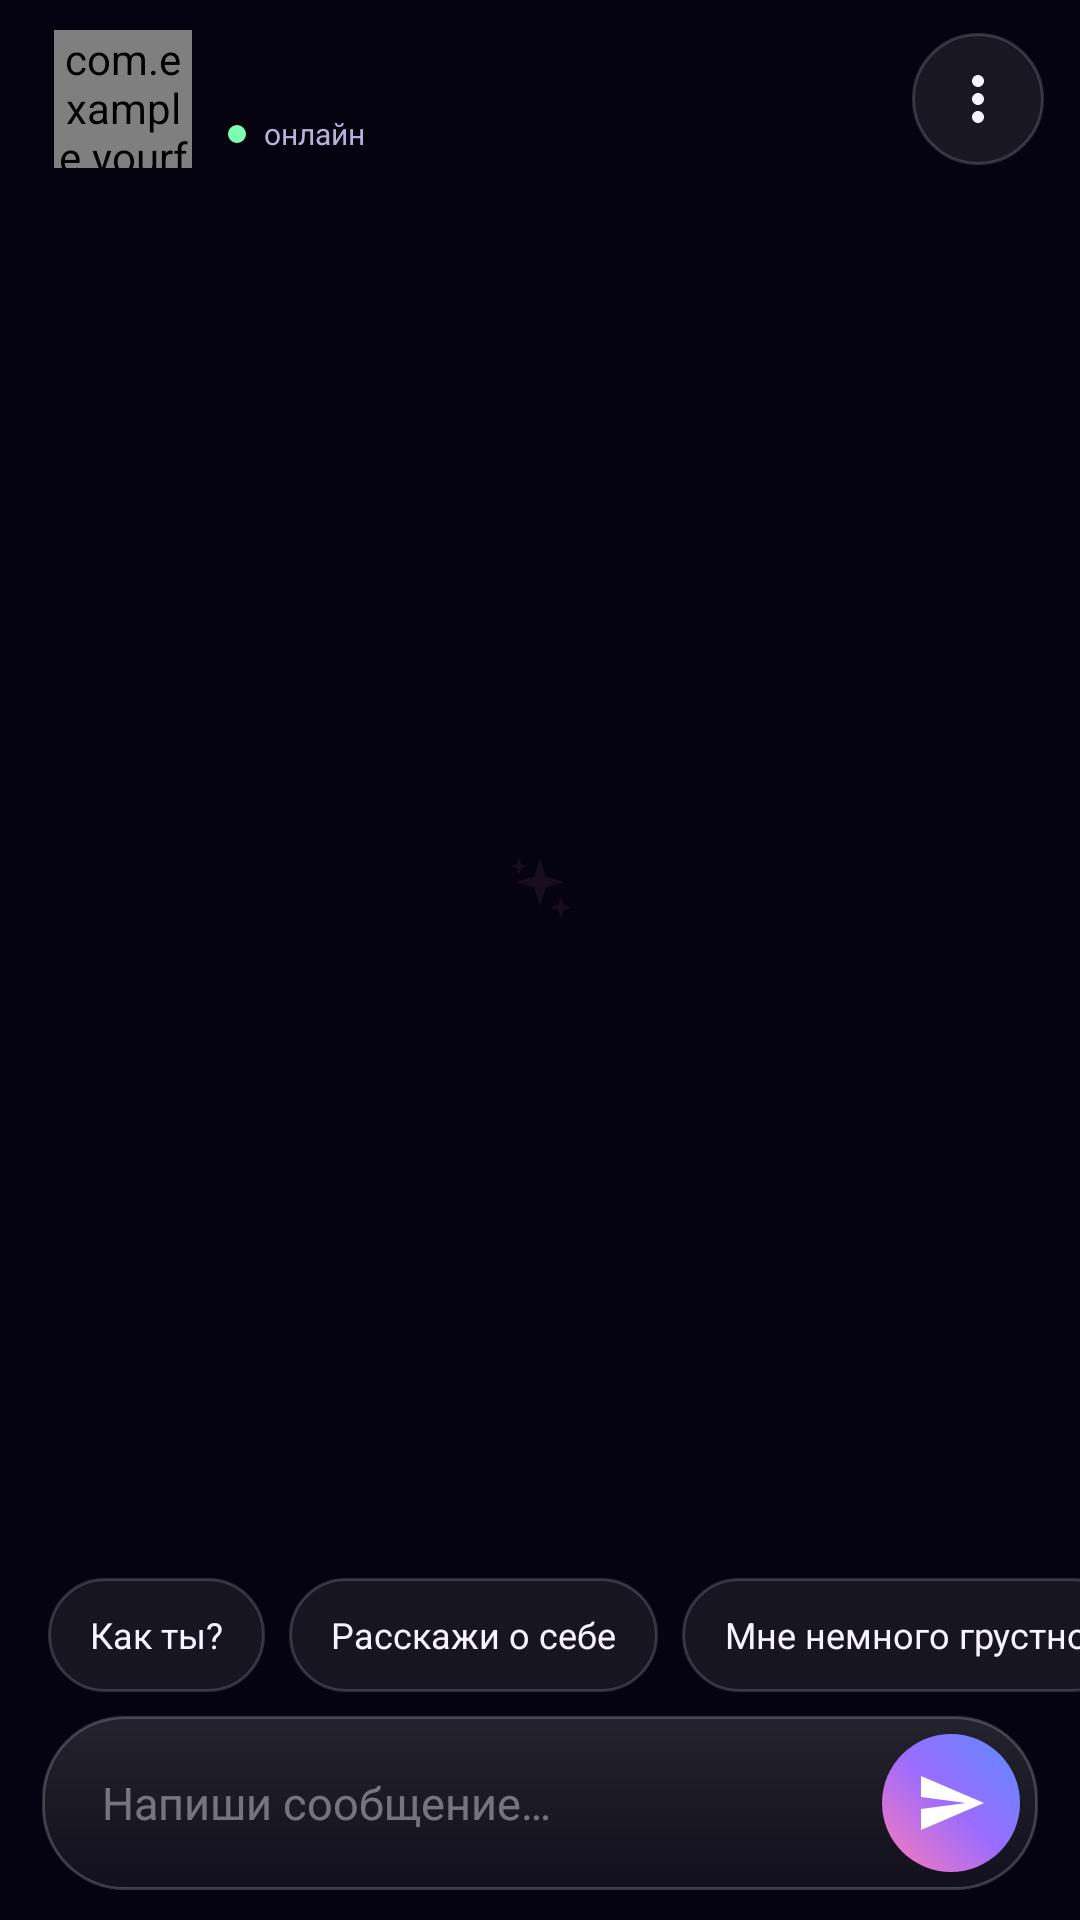

Where to tap for icons on this 1080×1920 app screen, as (x=x, y=y):
Ещё: (x=978, y=99)
Отправить: (x=951, y=1803)
